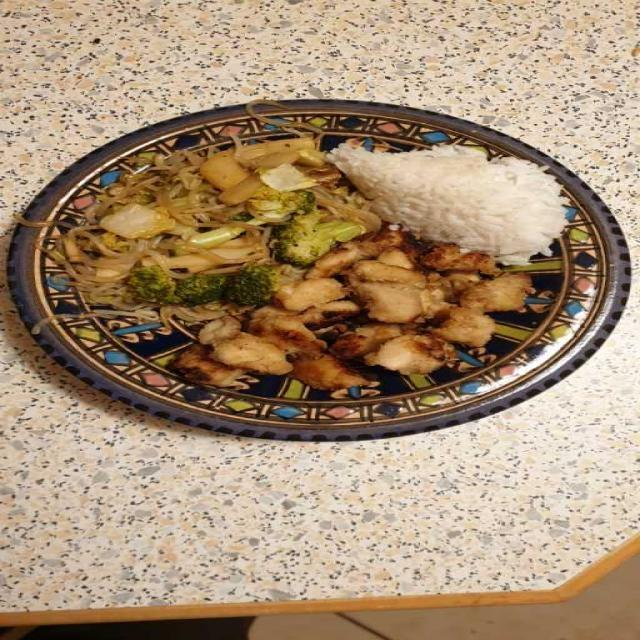chicken: (171, 226, 529, 385)
mixed-vegetables: (60, 143, 381, 326)
rice: (344, 145, 563, 257)
